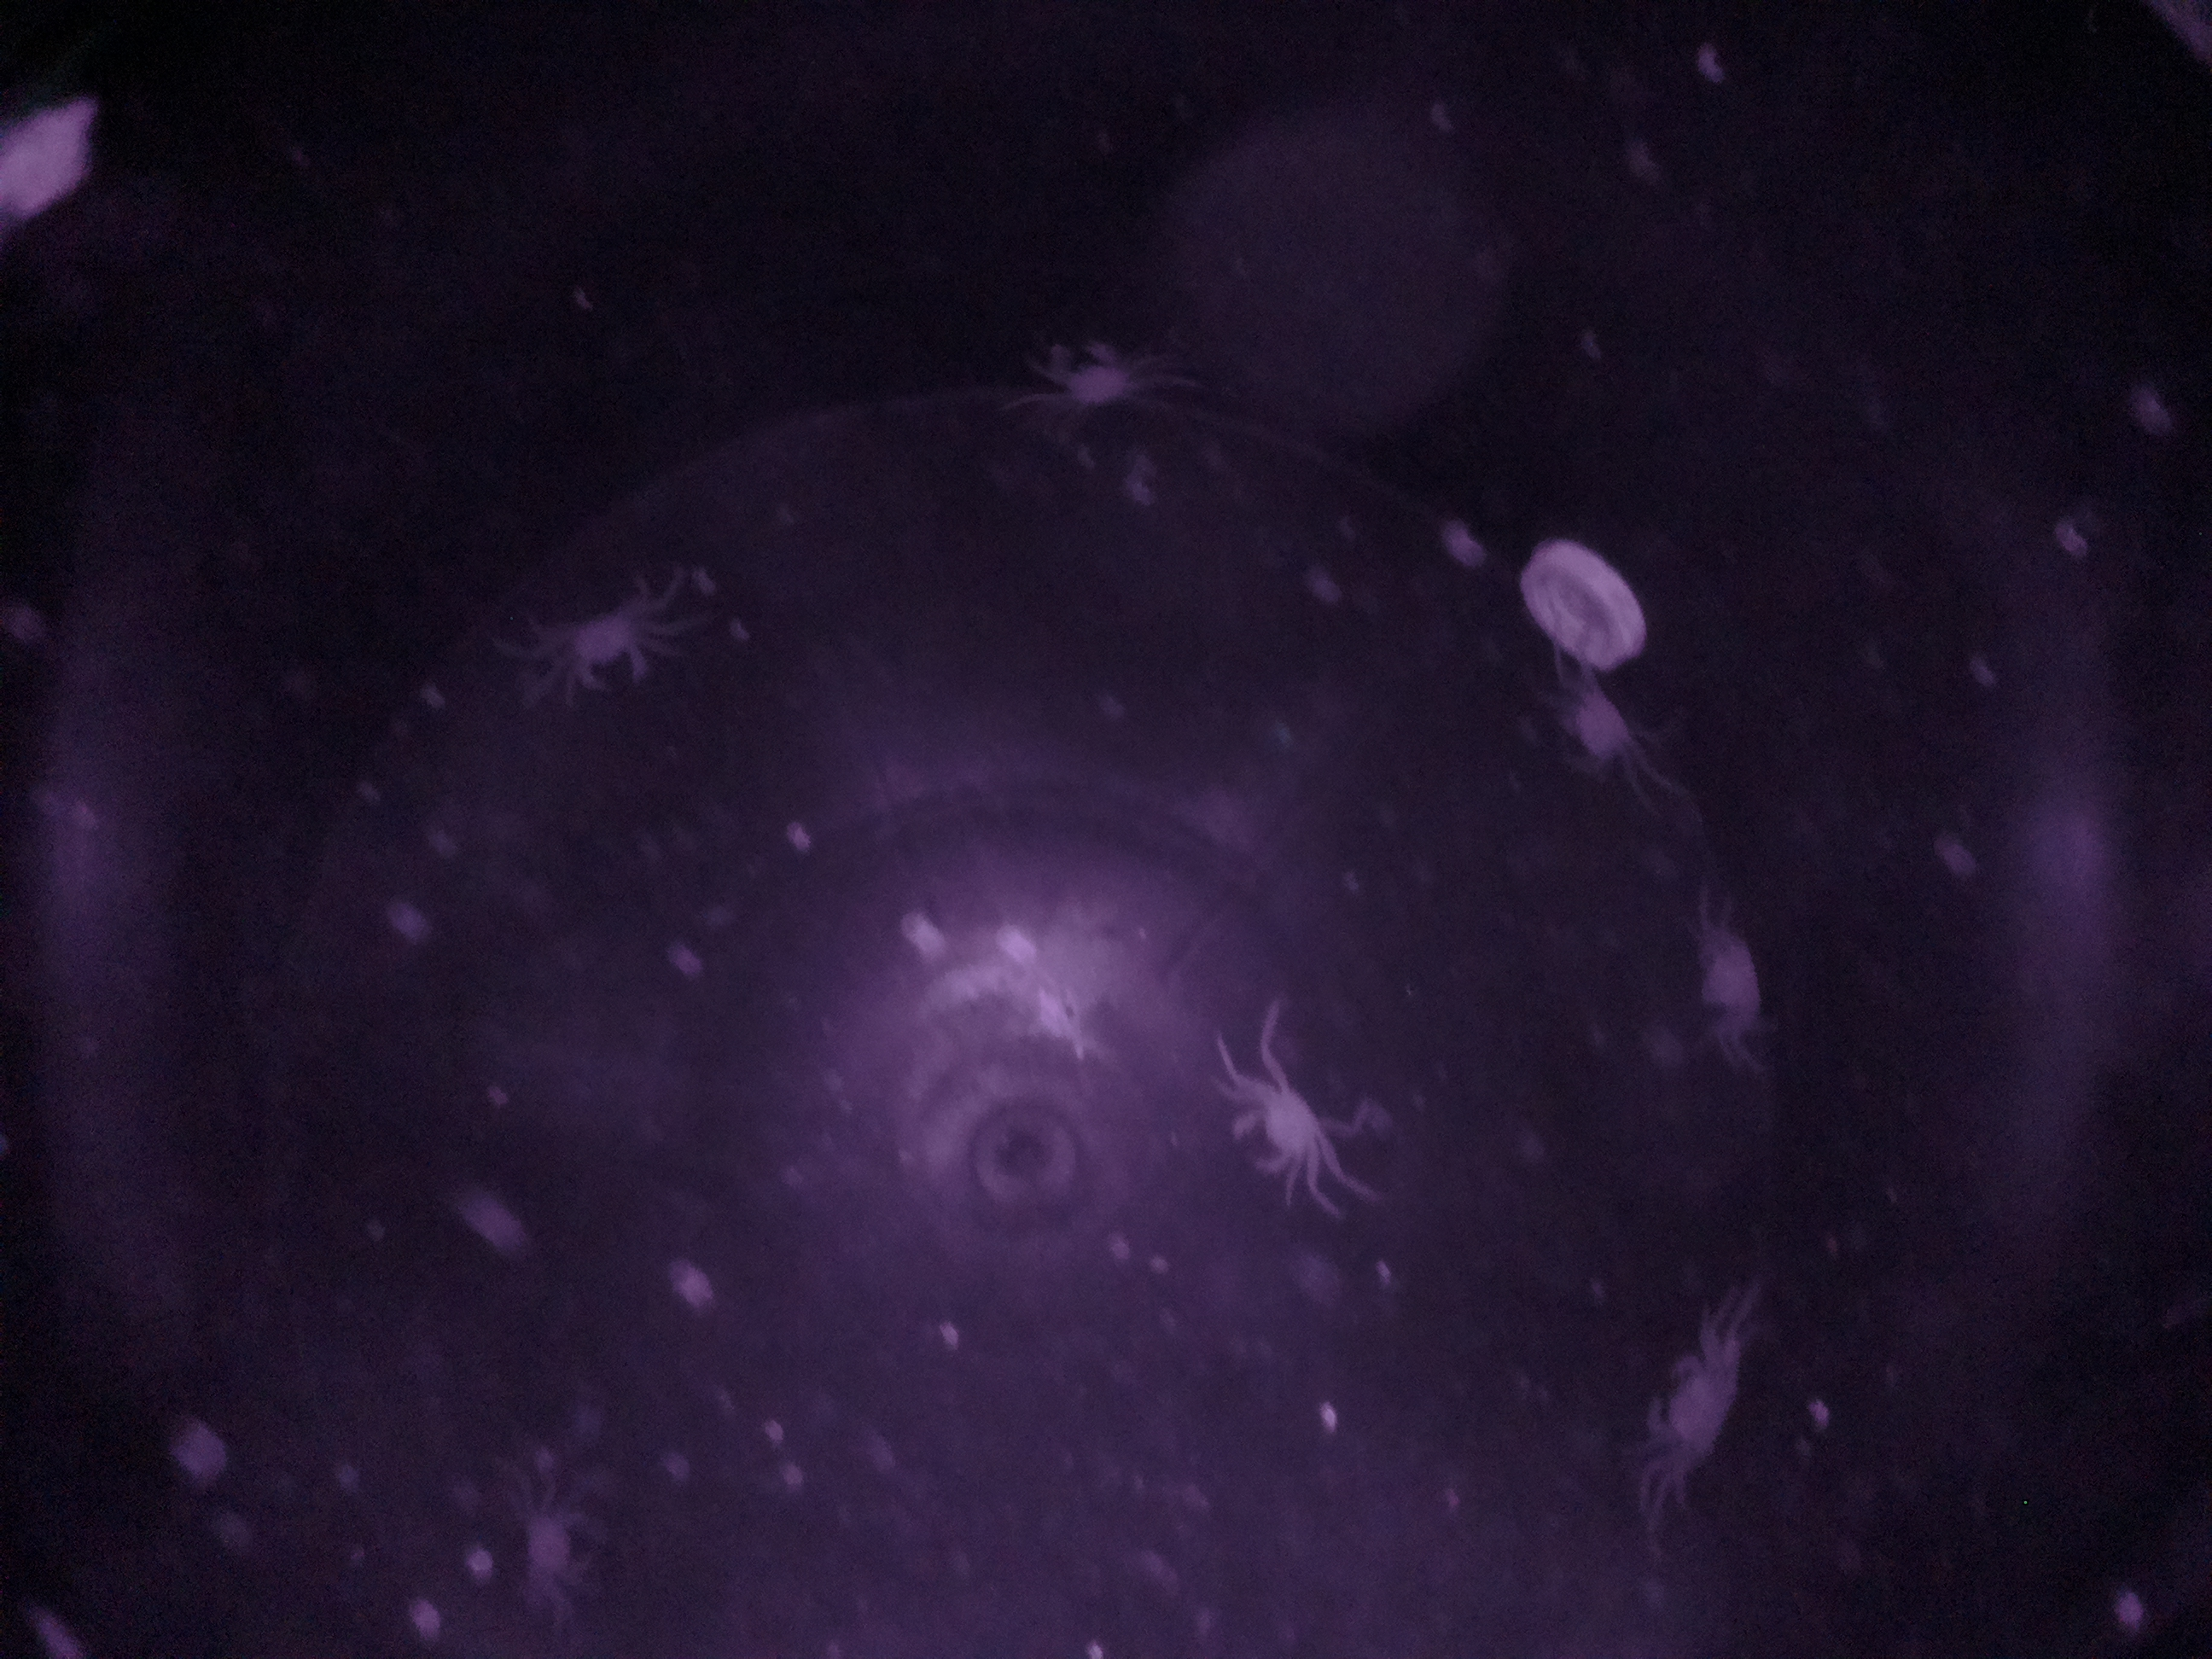Crab: (1623, 1328, 1752, 1483), (1202, 1068, 1343, 1190), (549, 591, 671, 706)
